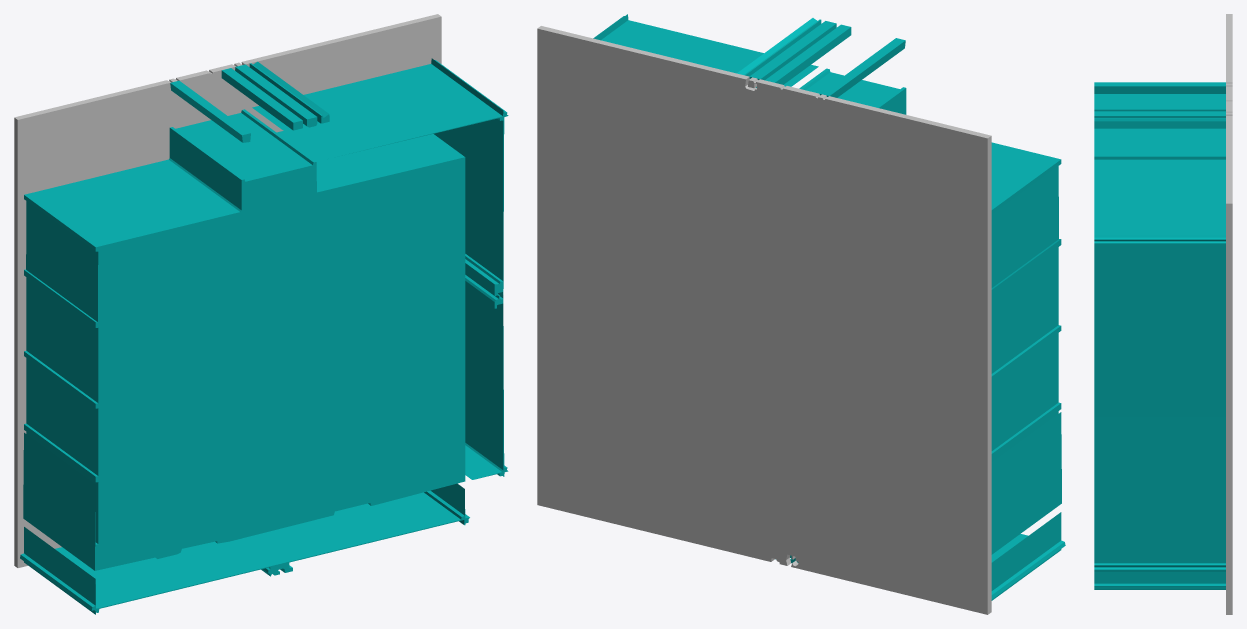
The picture shows the model from 3 angles, left to right: view 1: azimuth 30°, elevation 25°; view 2: azimuth 150°, elevation 25°; view 3: azimuth 270°, elevation 25°; orthographic projection. The views are drawn at different scales.
Parts seen in each view (by area): view 1: world; view 2: world; view 3: world.
Boxes of the visible parts, x1,y1,x2,y2 form: world: (14,14,508,614); world: (537,14,1065,614); world: (1094,14,1232,614).
Size of the model in its own units: 10.23 by 10.34 by 3.15.
